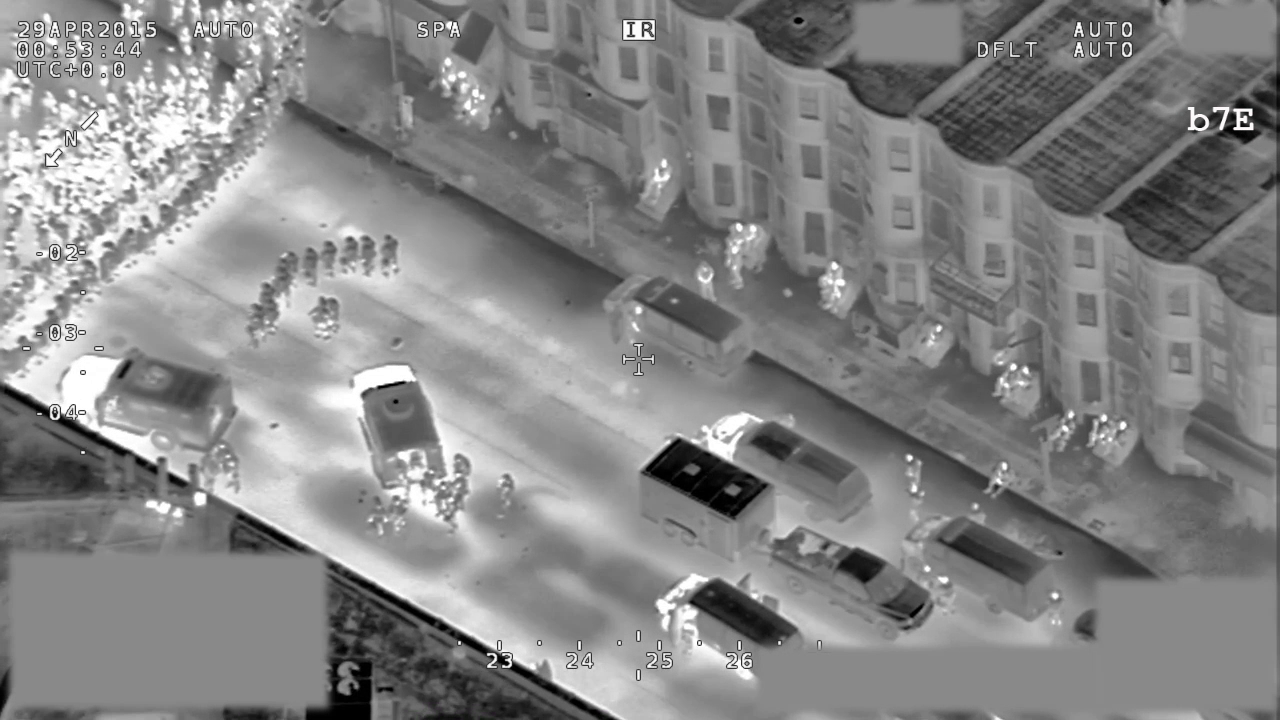vehicle: (894, 504, 1068, 637), (704, 401, 877, 534), (51, 351, 242, 459), (771, 520, 938, 642), (595, 268, 756, 391), (653, 570, 810, 687), (637, 432, 774, 559), (343, 359, 452, 497)
